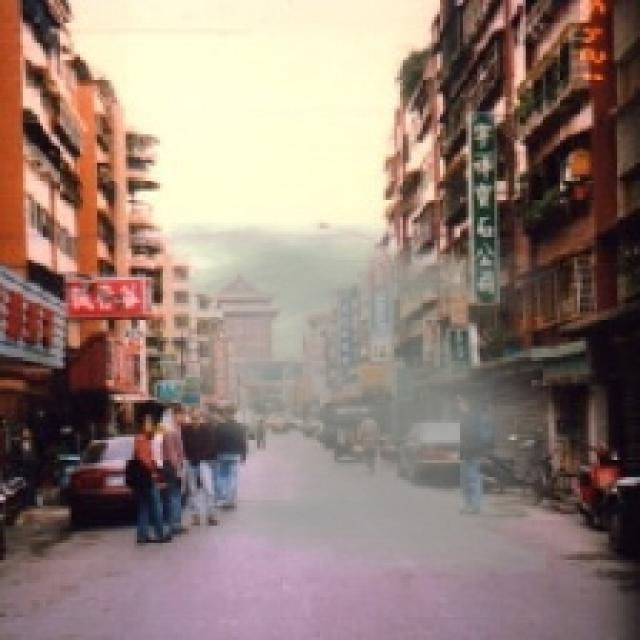Smoke: (163, 222, 552, 574)
